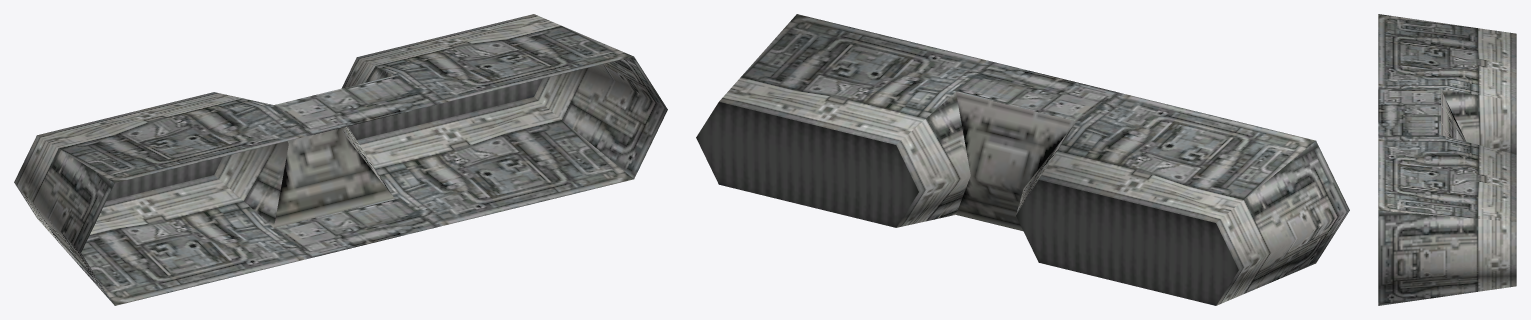
The model's file is ykl37r_engine_s02_l2.fbx.
3 views of the same model, side by side, from view 1: azimuth 30°, elevation 25°; view 2: azimuth 150°, elevation 25°; view 3: azimuth 270°, elevation 25° (orthographic). The views are drawn at different scales.
Parts seen in each view (by area): view 1: mesh_node; view 2: mesh_node; view 3: mesh_node.
Boxes of the visible parts, bbox=[...] form: mesh_node: bbox=[14, 14, 667, 305]; mesh_node: bbox=[696, 14, 1349, 305]; mesh_node: bbox=[1378, 14, 1516, 305].
Bounding box in the file's own units: 11.57 × 2.31 × 3.04.
1 material, 1 textured.
